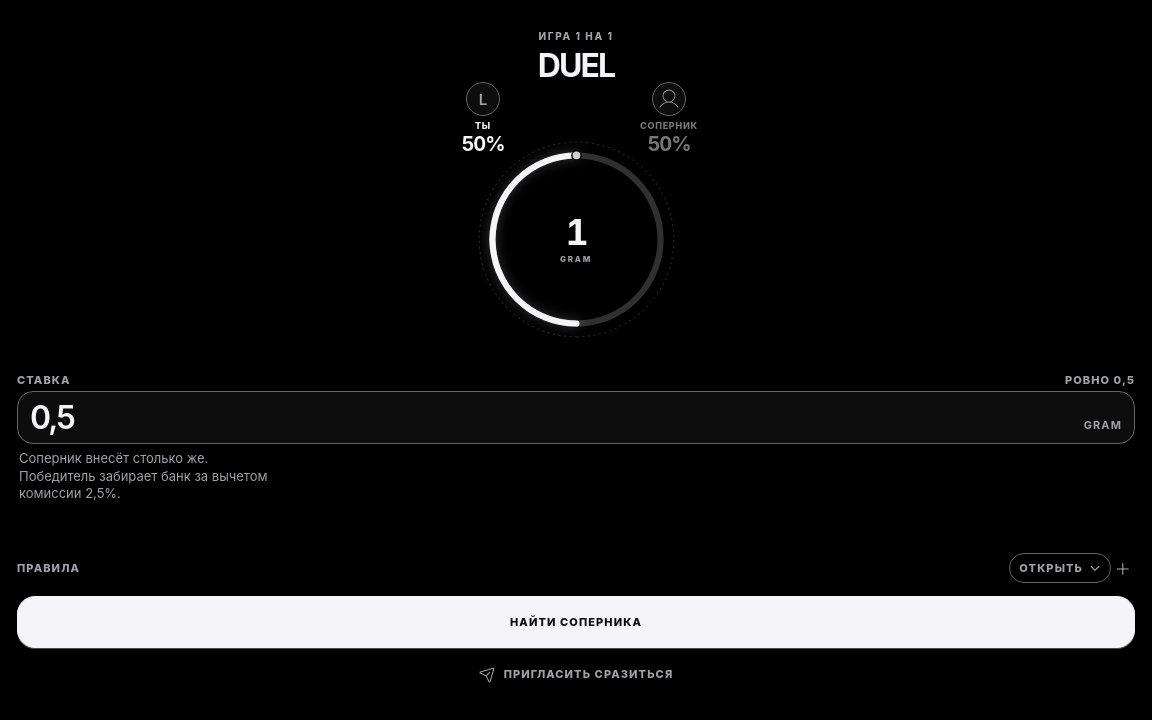
Test case: DuelScreen › does not prepare a DUEL for a wallet restored from another browser session
Click the button "НАЙТИ СОПЕРНИКА" at [576, 622], box top-left (17, 596), bottom-right (1135, 648)
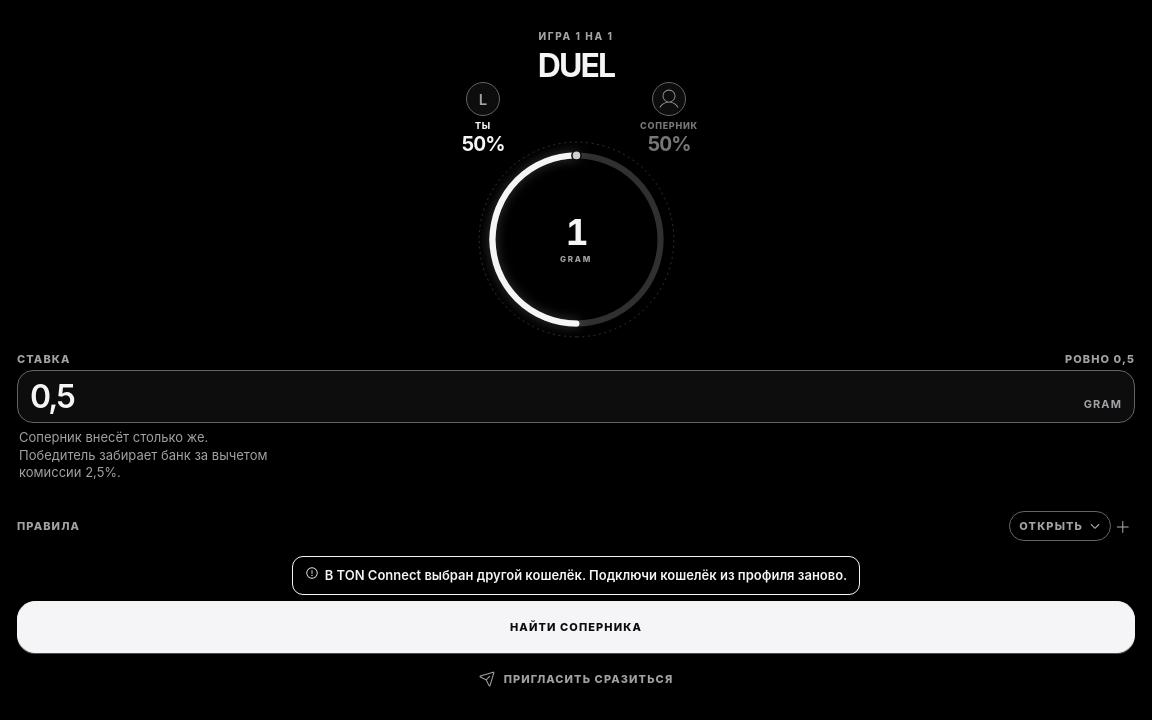
Expected: the text "В TON Connect выбран другой кошелёк. Подключи кошелёк из профиля заново." is shown, top-left (292, 556), bottom-right (860, 595)
